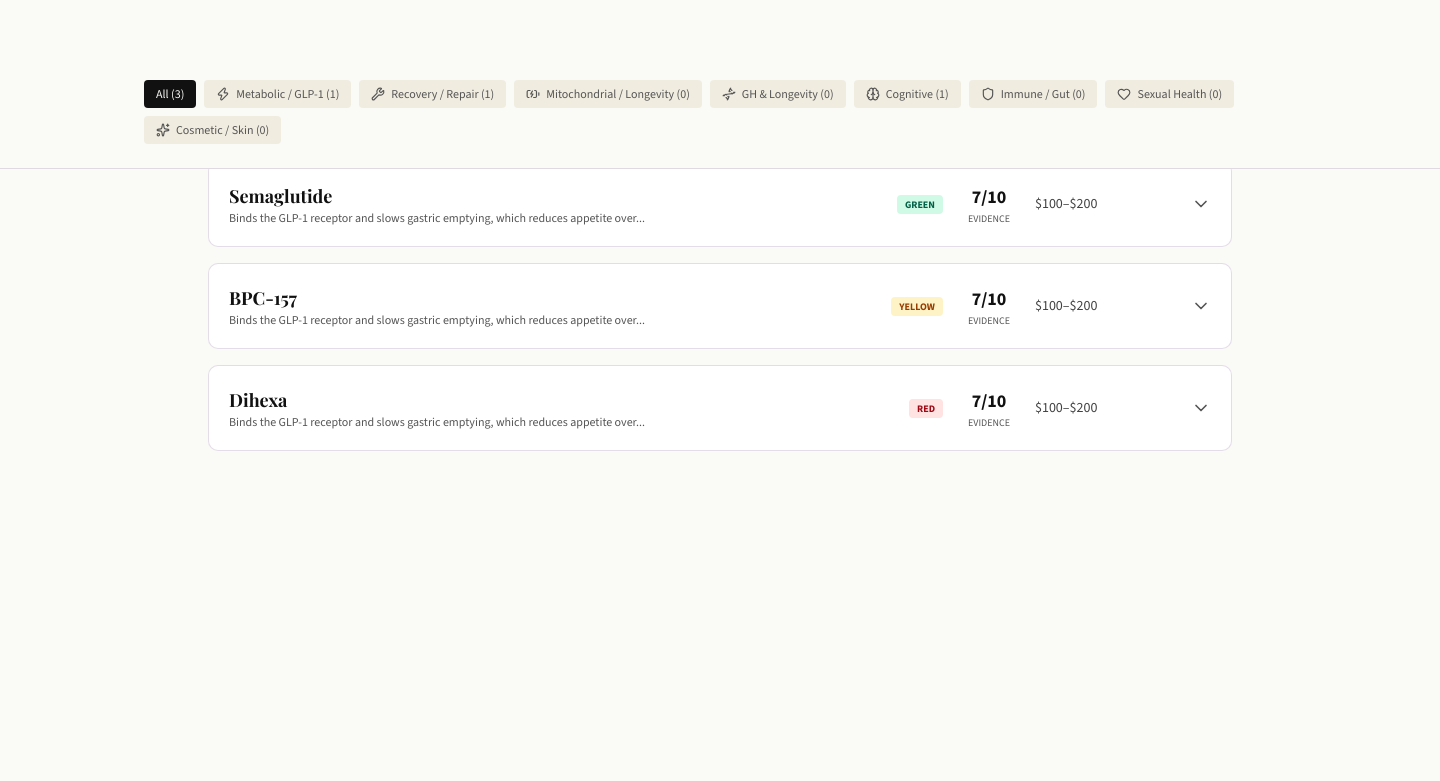
Test case: PeptideLibraryList › expands a peptide to its full profile with links to legal and price pages
Click the button "Semaglutide" at (281, 196), box x1=209 y1=162 x2=1231 y2=246
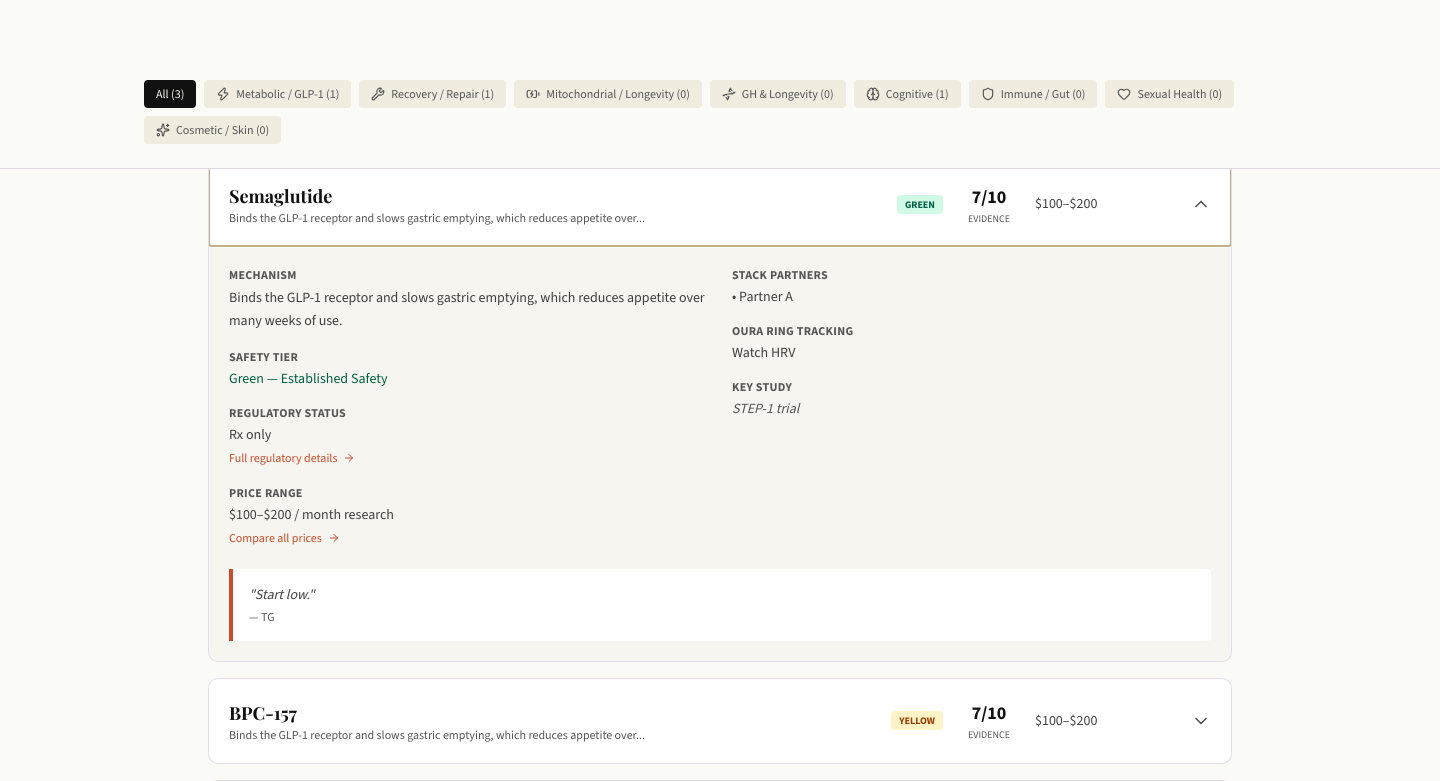
Expected: the text "Green — Established Safety" is shown, x1=229 y1=368 x2=388 y2=388
Expected: the text "STEP-1 trial" is shown, x1=732 y1=399 x2=799 y2=418
Expected: the text "\"Start low.\"" is shown, x1=249 y1=584 x2=315 y2=604
Click the button "Semaglutide" at (281, 196), box x1=209 y1=162 x2=1231 y2=246
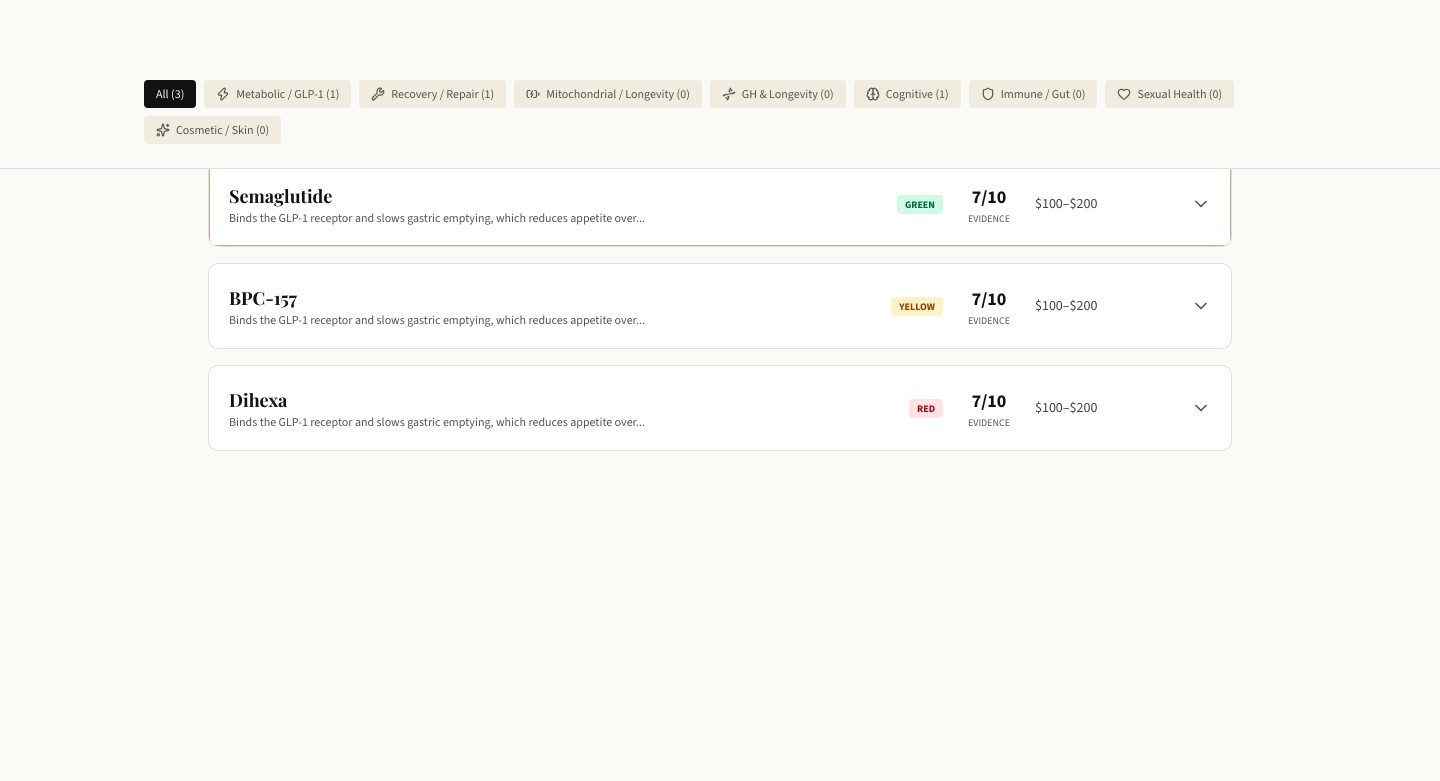
Expected: the text "STEP-1 trial" is gone
